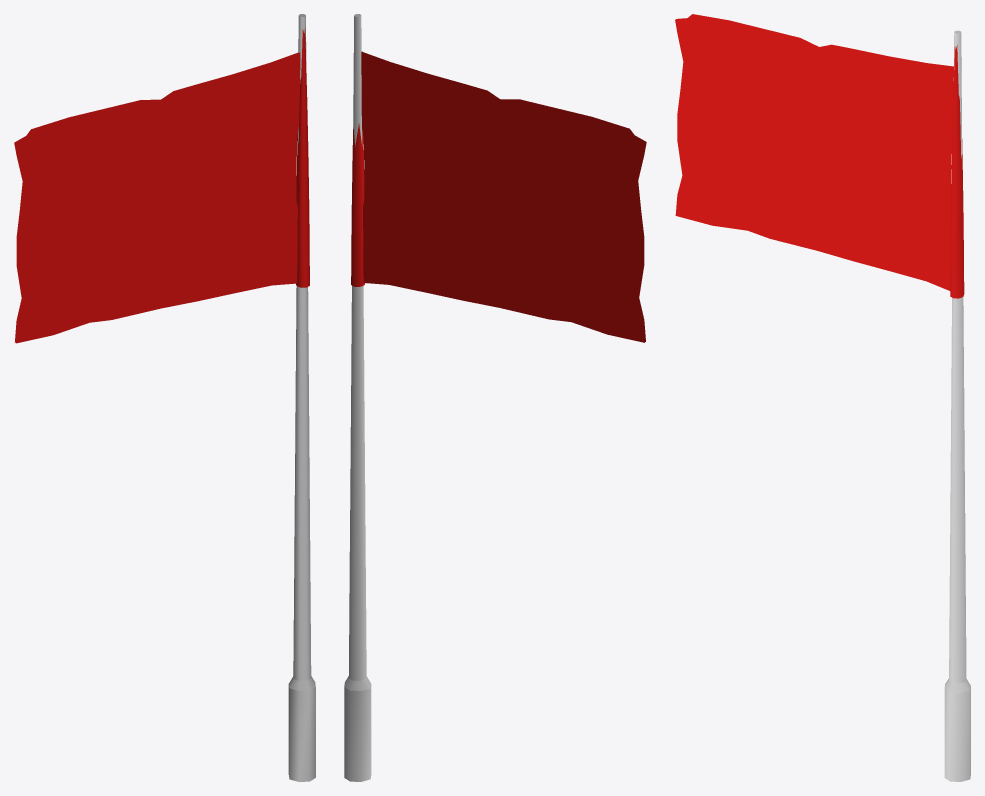
The model's file is flag.obj.
3 views of the same model, side by side, from view 1: azimuth 30°, elevation 25°; view 2: azimuth 150°, elevation 25°; view 3: azimuth 330°, elevation 25° (orthographic). The views are drawn at different scales.
Visible parts, largest first — view 1: Flag.001, Antenna.001, Flag; view 2: Flag, Antenna.001, Flag.001; view 3: Flag.001, Antenna.001, Flag.
Boxes of the visible parts, x1,y1,x2,y2 form: Flag.001: (15, 28, 309, 343); Antenna.001: (288, 14, 315, 781); Flag: (14, 52, 298, 342); Flag: (351, 52, 645, 342); Antenna.001: (344, 14, 371, 781); Flag.001: (361, 51, 646, 341); Flag.001: (675, 14, 962, 298); Antenna.001: (944, 30, 970, 781); Flag: (676, 14, 964, 296).
Bounding box in the file's own units: 5.6 × 13.53 × 0.4787.
